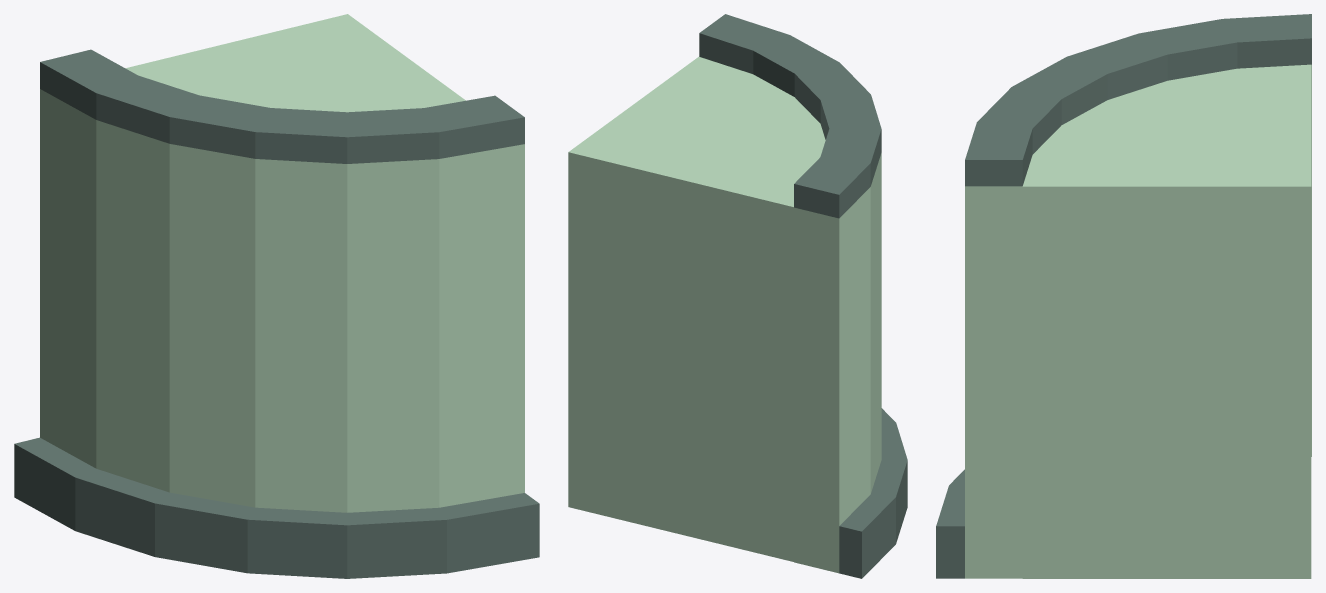
The model's file is GroundCircle90Degrees.fbx.
3 views of the same model, side by side, from view 1: azimuth 30°, elevation 25°; view 2: azimuth 150°, elevation 25°; view 3: azimuth 270°, elevation 25° (orthographic). The views are drawn at different scales.
Visible parts, largest first — view 1: GroundCircle90Degrees; view 2: GroundCircle90Degrees; view 3: GroundCircle90Degrees.
Boxes of the visible parts, left/top/right/bottom form: GroundCircle90Degrees: left=14, top=14, right=539, bottom=578; GroundCircle90Degrees: left=568, top=14, right=907, bottom=578; GroundCircle90Degrees: left=936, top=14, right=1311, bottom=578.
Size of the model in its own units: 1.3 by 1.6 by 1.3.
